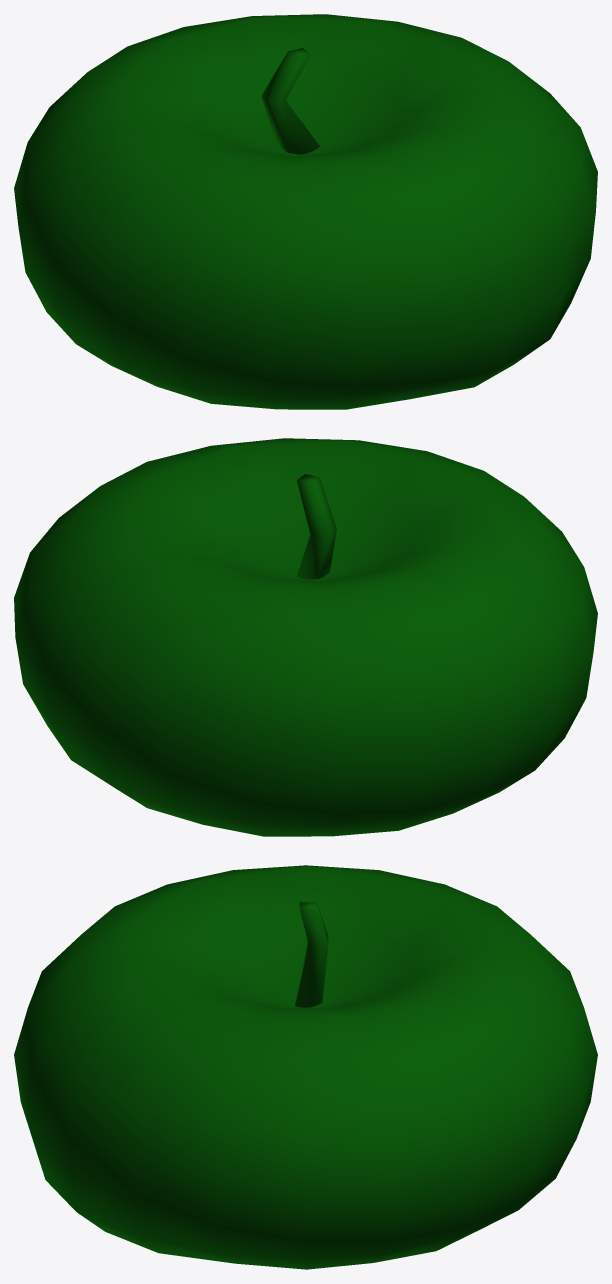
File: vegetable01.FBX
The picture shows the model from 3 angles, top to bottom: view 1: azimuth 30°, elevation 25°; view 2: azimuth 150°, elevation 25°; view 3: azimuth 270°, elevation 25°; orthographic projection.
Visible parts, largest first — view 1: SM_vegetable01_0; view 2: SM_vegetable01_0; view 3: SM_vegetable01_0.
Part boxes in pixels (x1,y1,x2,y2): SM_vegetable01_0: (14, 14, 597, 409); SM_vegetable01_0: (14, 438, 597, 836); SM_vegetable01_0: (14, 865, 597, 1269).
Bounding box in the file's own units: 47.09 × 45.69 × 24.67.
